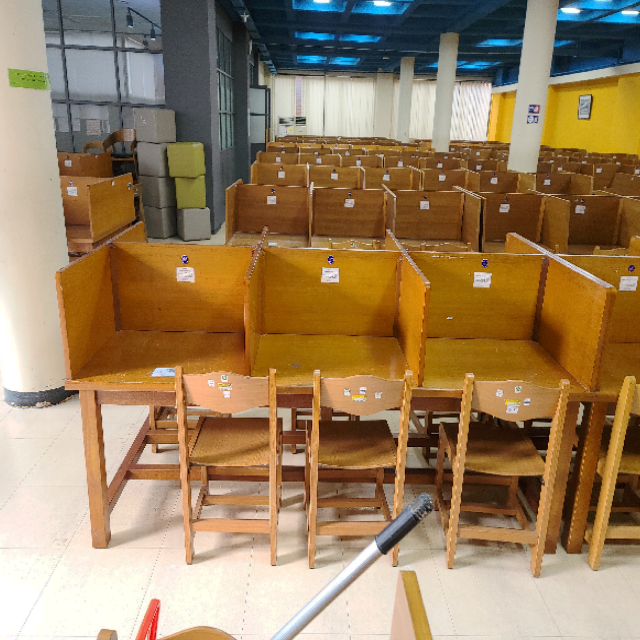empty: (40, 233, 248, 461), (426, 242, 594, 469), (257, 261, 416, 463)
